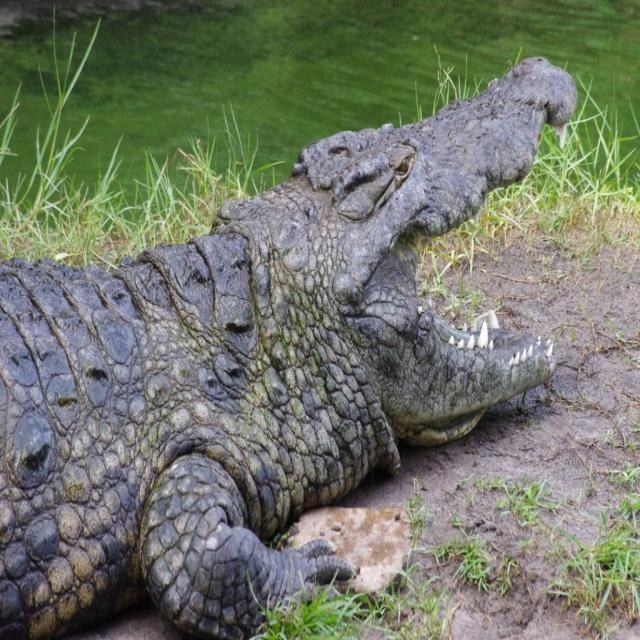crocodile: (0, 46, 614, 639)
